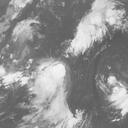cyclone: (28, 59, 70, 102)
